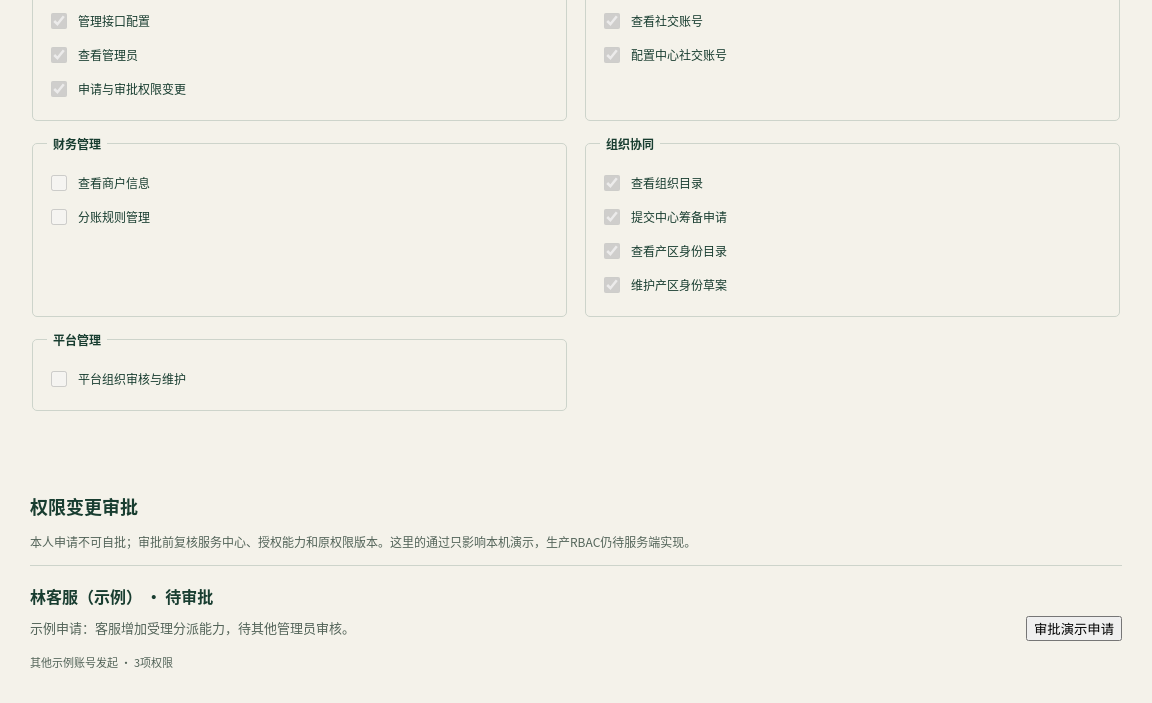
Test case: 管理员自己不能改权限，独立审批更新示例版本
(page scrolled)
Click the button "审批演示申请". click: (1074, 628)
box: [1026,616,1122,641]
(page scrolled)
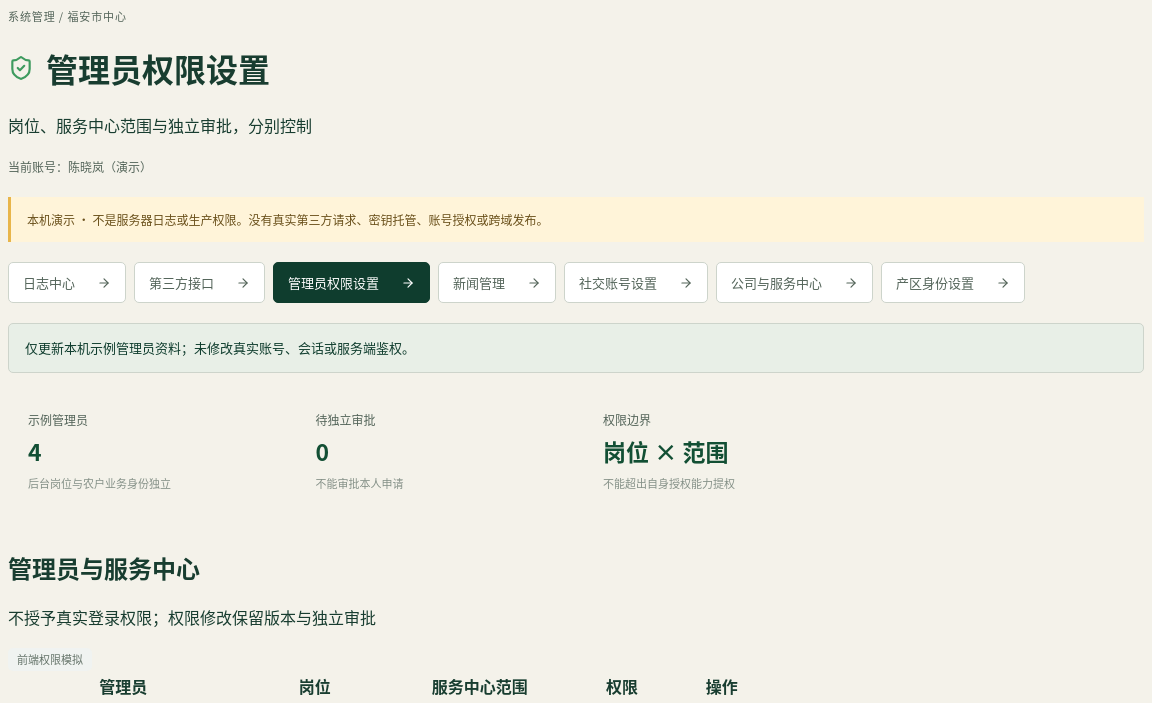
Expected: the message shows "未修改真实账号", [25,338,415,358]
